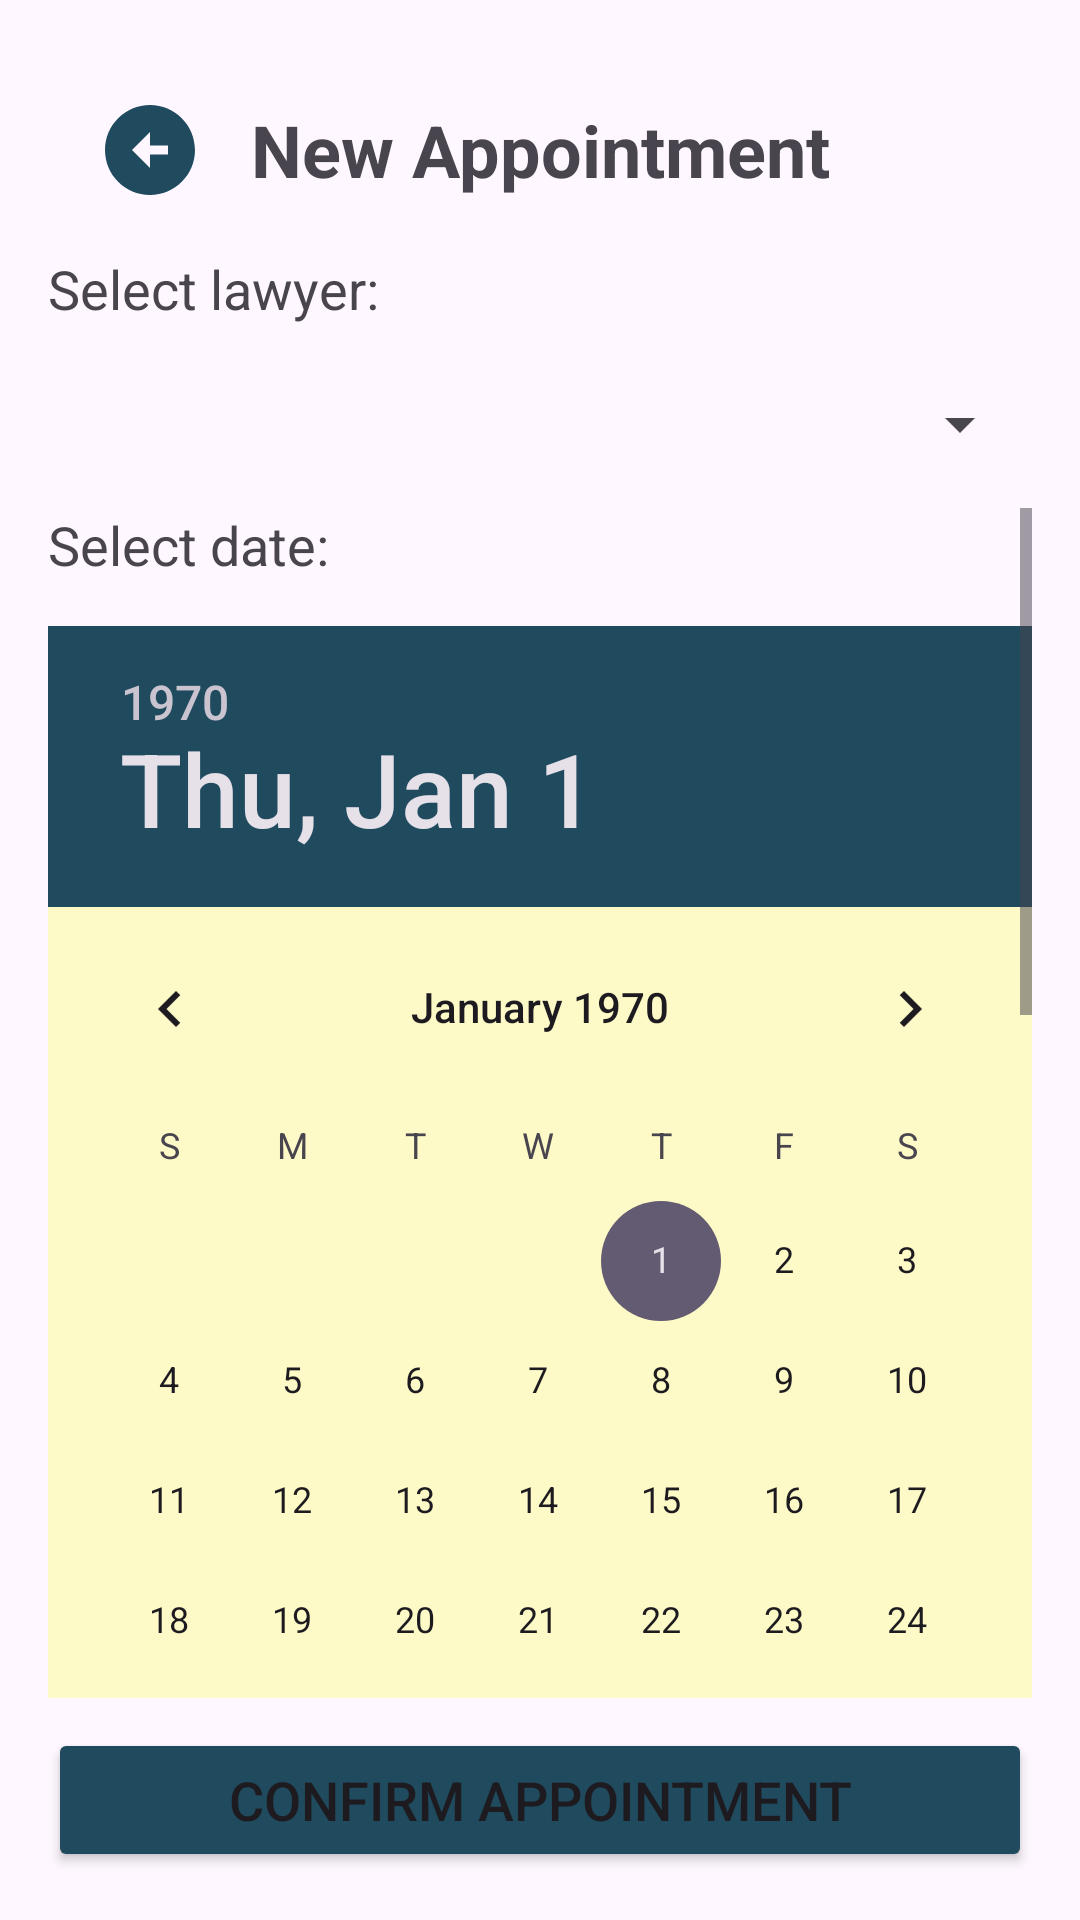

Named icons in this screenshot (1080px×1920px) and their bounding boxes, {"x1": x1, "y1": y1, "x2": x2, "y2": y2}:
arrow: {"x1": 105, "y1": 105, "x2": 195, "y2": 195}
